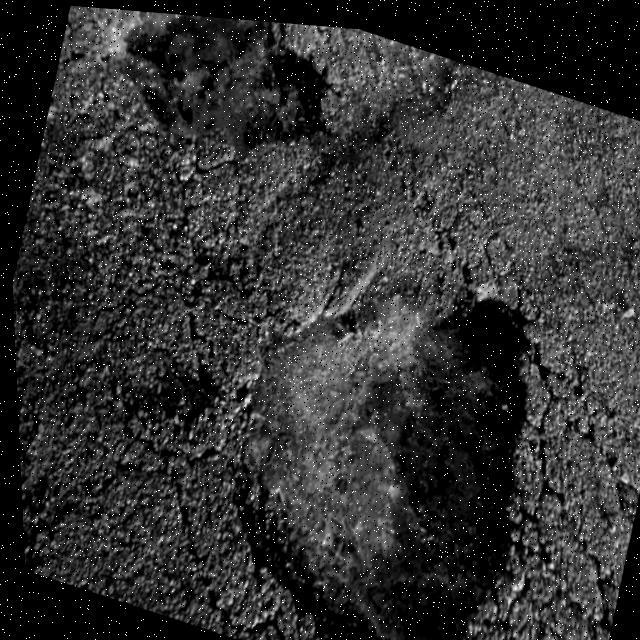pothole: (180, 218, 578, 640), (55, 3, 352, 204)
